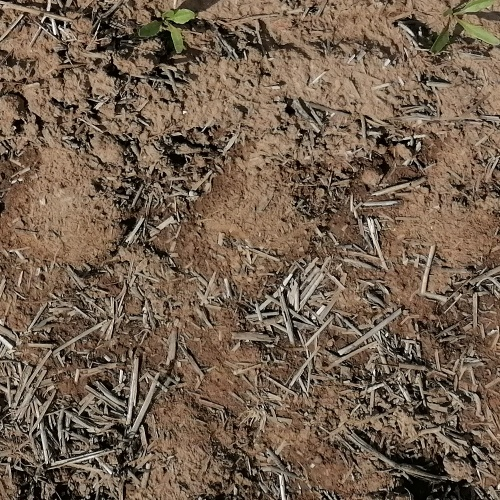beet: (432, 0, 500, 54), (140, 6, 195, 54)
